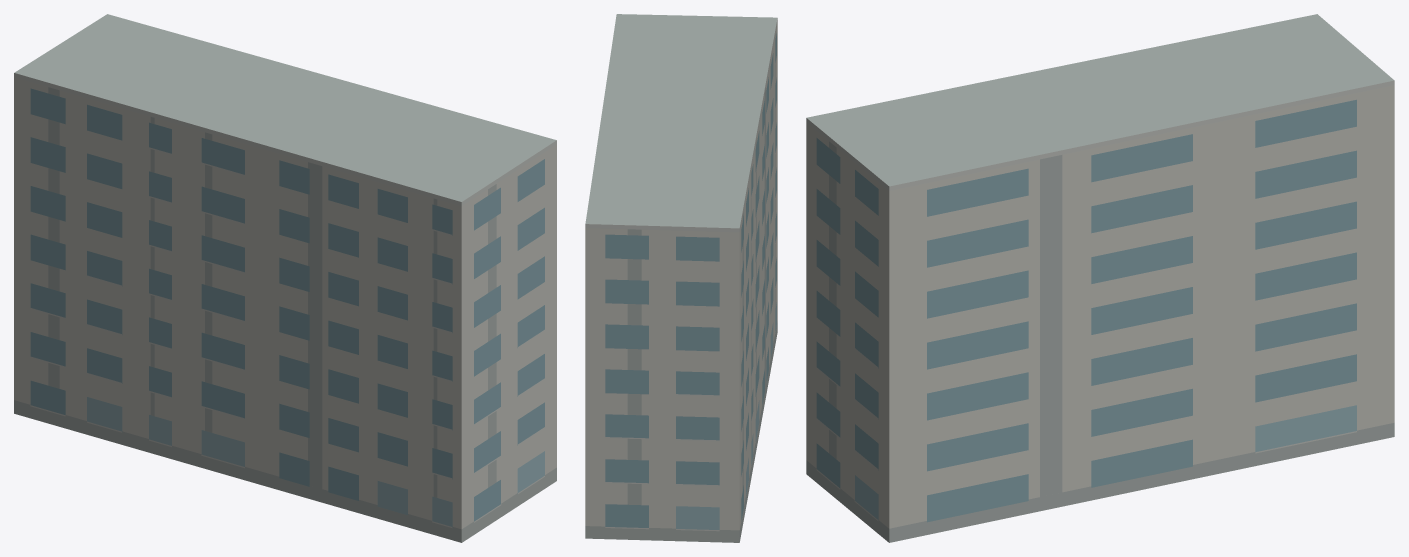
The model's file is survey-upis-32706723.glb.
3 renders of one model, left to right at view 1: azimuth 30°, elevation 25°; view 2: azimuth 150°, elevation 25°; view 3: azimuth 270°, elevation 25°, orthographic. The views are drawn at different scales.
Parts seen in each view (by area): view 1: survey-upis-32706723.tmp; view 2: survey-upis-32706723.tmp; view 3: survey-upis-32706723.tmp.
Part boxes in pixels (x1=…): survey-upis-32706723.tmp: x1=14, y1=14, x2=556, y2=542; survey-upis-32706723.tmp: x1=585, y1=14, x2=777, y2=542; survey-upis-32706723.tmp: x1=806, y1=14, x2=1394, y2=542.
Bounding box in the file's own units: 19.73 × 19 × 28.43.
